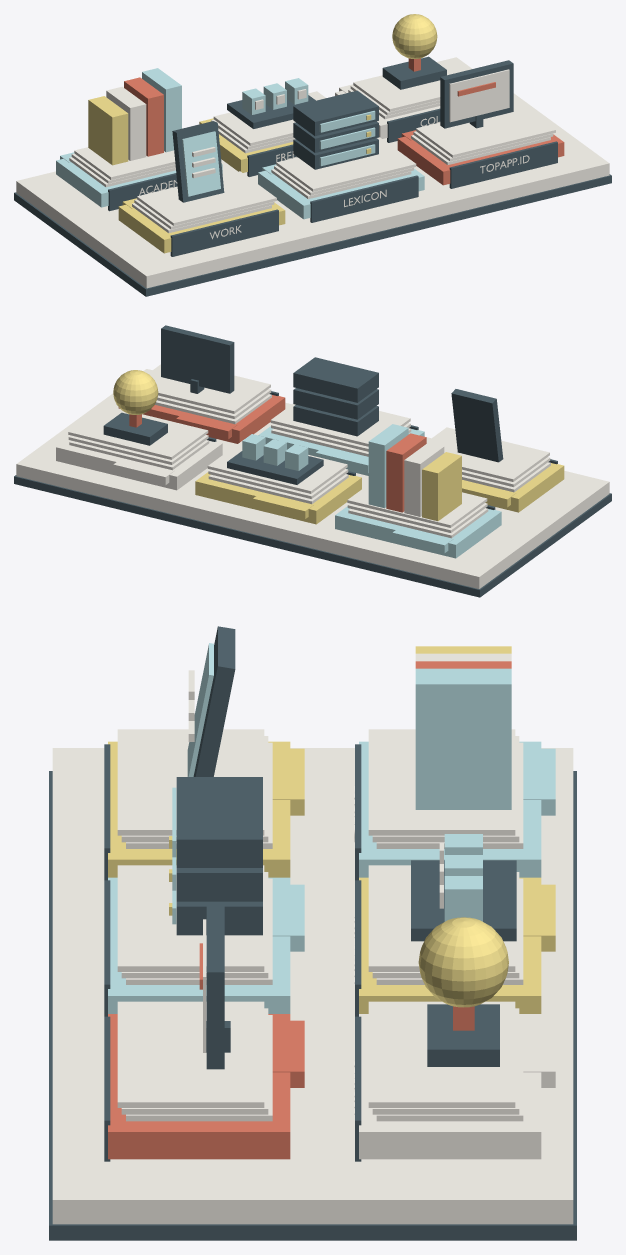
The model's file is work-archive.glb.
The picture shows the model from 3 angles, top to bottom: view 1: azimuth 30°, elevation 25°; view 2: azimuth 150°, elevation 25°; view 3: azimuth 270°, elevation 25°; orthographic projection. The views are drawn at different scales.
Visible parts, largest first — view 1: Archive plinth, Ink foundation, Project sheet 2.002, Project sheet 2, Project sheet 2.001, Title rail.001, Title rail, Title rail.002, Personal notebook, Freelance screen, Project sheet 2.005, Server unit.002 (+36 smaller); view 2: Archive plinth, Ink foundation, Freelance display, Mobile device, Project sheet 2.005, Server unit.002, Folder body Academy, Folder body Freelance, Folder body College, Project sheet 2, Project sheet 2.002, Personal notebook (+35 smaller); view 3: Archive plinth, Project sheet 2.002, Personal notebook.003, Ink foundation, Project sheet 2.005, Project sheet 2, Folder body TopApp.id, Folder body College, Project sheet 2.001, Project sheet 2.003, Server unit.002, Competition marker (+40 smaller).
Boxes of the visible parts, x1,y1,x2,y2 form: Archive plinth: [16, 93, 609, 288]; Ink foundation: [14, 174, 611, 296]; Project sheet 2.002: [416, 103, 555, 157]; Project sheet 2: [137, 171, 276, 225]; Project sheet 2.001: [276, 137, 416, 191]; Title rail.001: [310, 175, 418, 222]; Title rail: [170, 209, 278, 256]; Title rail.002: [449, 141, 557, 188]; Personal notebook: [88, 96, 128, 165]; Freelance screen: [449, 69, 509, 122]; Project sheet 2.005: [353, 57, 471, 111]; Server unit.002: [293, 90, 378, 136]; Archive plinth: [16, 369, 609, 588]; Ink foundation: [14, 475, 611, 597]; Freelance display: [161, 325, 234, 393]; Mobile device: [451, 389, 503, 462]; Project sheet 2.005: [68, 405, 208, 459]; Server unit.002: [293, 357, 378, 402]; Folder body Academy: [335, 506, 501, 558]; Folder body Freelance: [195, 472, 361, 524]; Folder body College: [56, 438, 222, 490]; Project sheet 2: [426, 427, 549, 481]; Project sheet 2.002: [148, 364, 270, 413]; Personal notebook: [422, 452, 461, 521]; Archive plinth: [52, 748, 573, 1224]; Project sheet 2.002: [117, 1001, 264, 1107]; Personal notebook.003: [415, 668, 511, 809]; Ink foundation: [49, 771, 576, 1240]; Project sheet 2.005: [368, 1001, 515, 1107]; Project sheet 2: [117, 729, 264, 835]; Folder body TopApp.id: [108, 1014, 290, 1159]; Folder body College: [359, 1014, 541, 1159]; Project sheet 2.001: [117, 865, 264, 971]; Project sheet 2.003: [368, 729, 515, 835]; Server unit.002: [176, 777, 262, 867]; Competition marker: [418, 917, 508, 1007].
Bounding box in the file's own units: 7.85 × 1.86 × 3.85.
